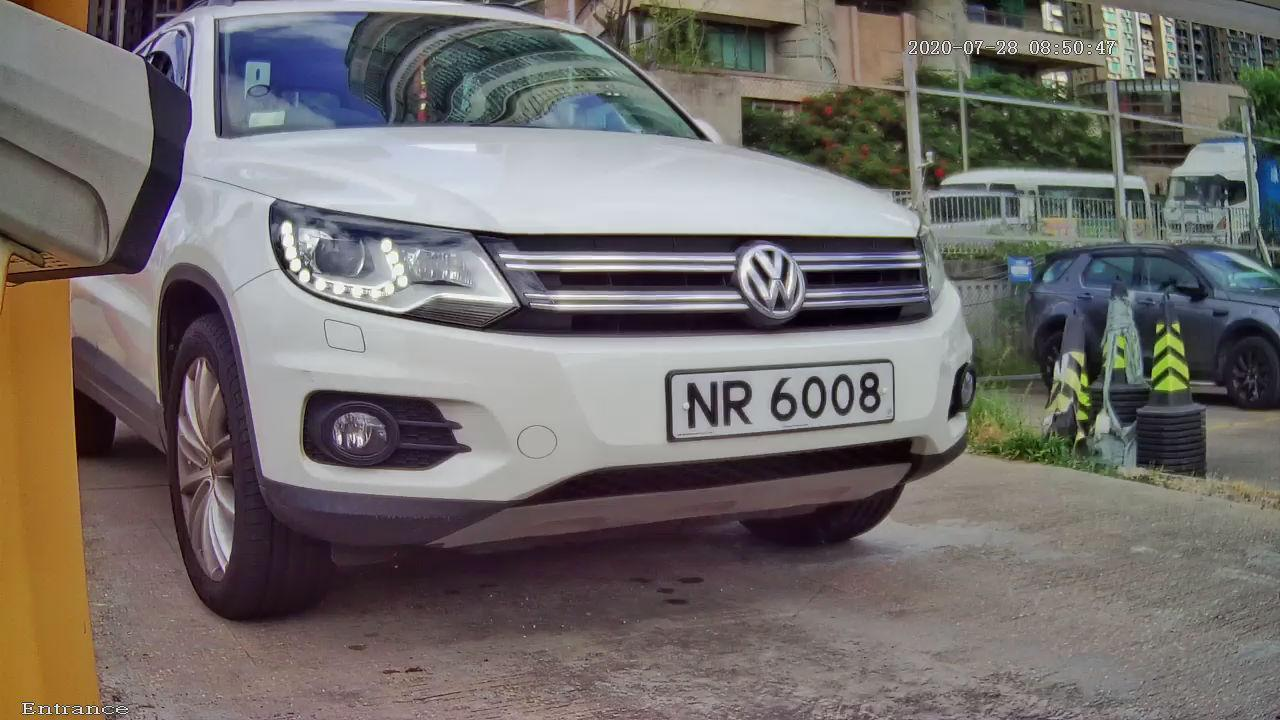privatecar: (86, 1, 1092, 643)
